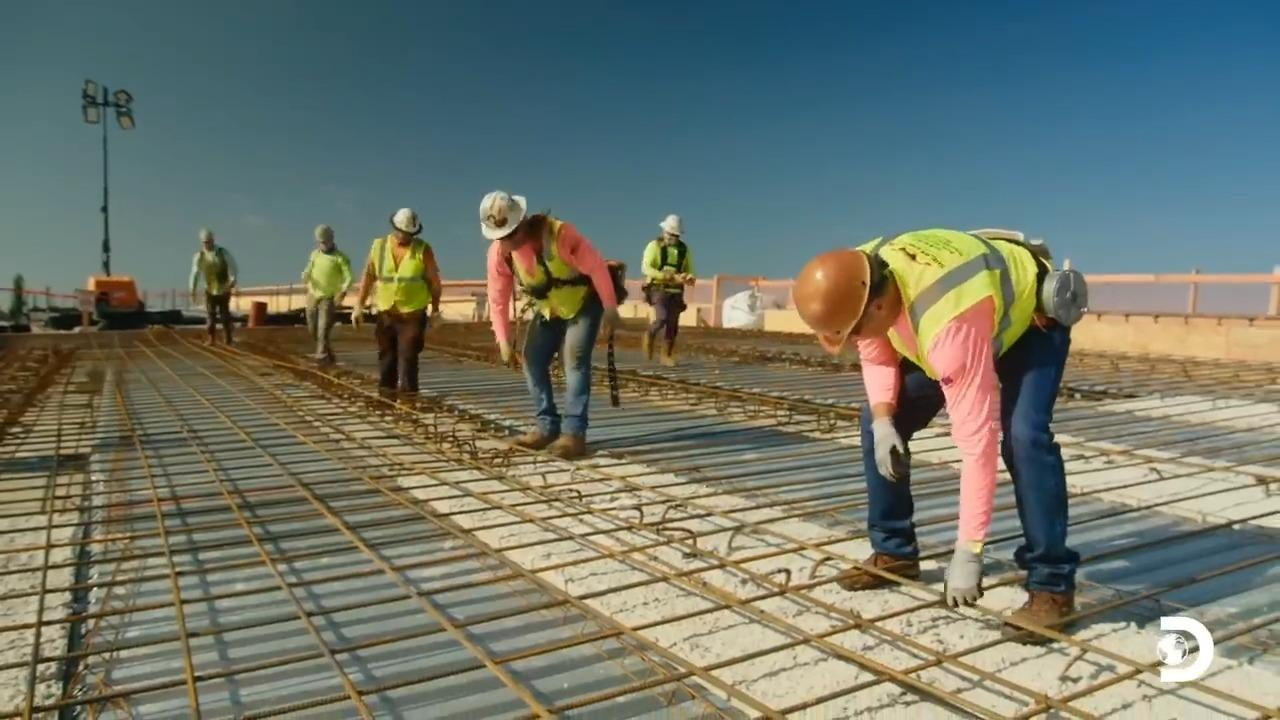Gloves: (936, 547, 984, 614), (873, 410, 910, 476), (600, 304, 622, 340), (499, 342, 519, 370)
Helmet: (792, 248, 871, 355), (478, 190, 526, 240), (390, 207, 421, 234), (658, 213, 683, 235), (314, 223, 334, 243), (198, 228, 213, 242)
Person: (792, 226, 1088, 638), (478, 190, 620, 459), (350, 207, 442, 393), (640, 213, 695, 367), (301, 223, 352, 363), (188, 227, 238, 346)
Safety Boot: (1008, 597, 1071, 631), (838, 556, 919, 582), (549, 432, 585, 454), (517, 429, 548, 454)
Safety Vest: (516, 251, 593, 325), (374, 243, 434, 313), (650, 248, 687, 300), (313, 250, 339, 297), (200, 262, 227, 294)
